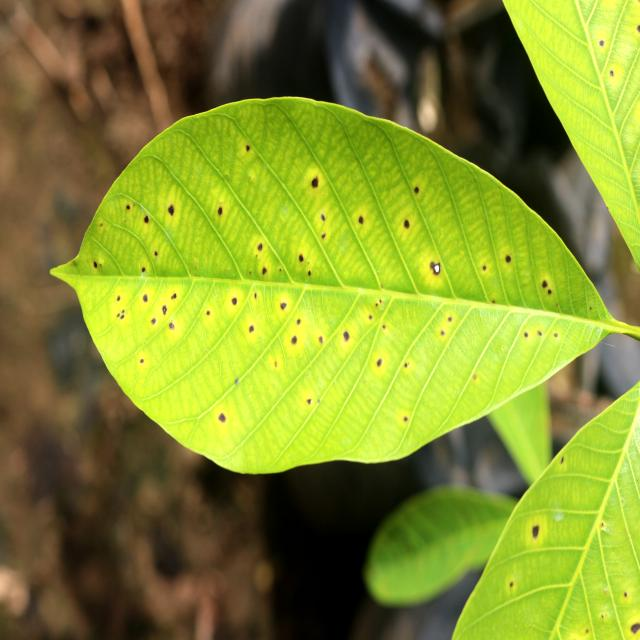Colletotrichum: (630, 622, 640, 635), (434, 262, 441, 275), (534, 525, 540, 540), (311, 178, 319, 189), (168, 204, 175, 216), (219, 412, 225, 422), (542, 281, 548, 290), (358, 216, 364, 225), (292, 336, 298, 345), (298, 254, 304, 262), (280, 302, 286, 310), (344, 331, 349, 340), (404, 220, 409, 229), (162, 305, 167, 314), (262, 267, 266, 276), (218, 207, 222, 216), (232, 298, 237, 305), (144, 216, 149, 223), (258, 243, 262, 251), (506, 255, 510, 262), (143, 295, 147, 302), (554, 333, 558, 337)
